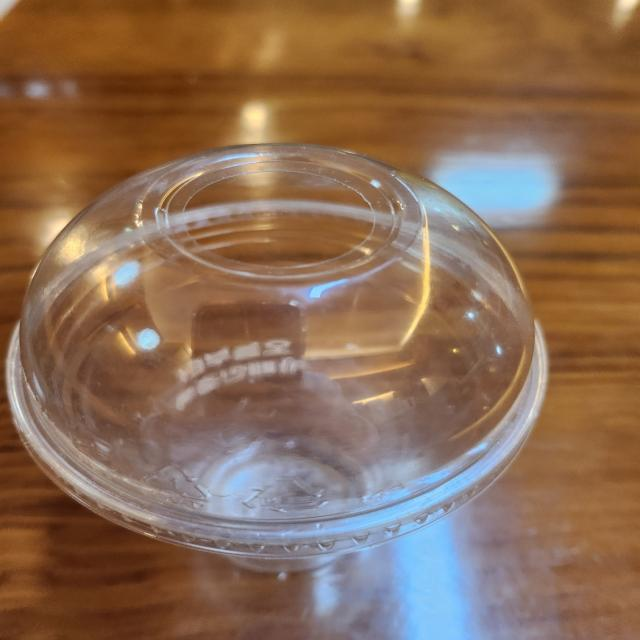plastic_cup_lid: (0, 120, 538, 558)
